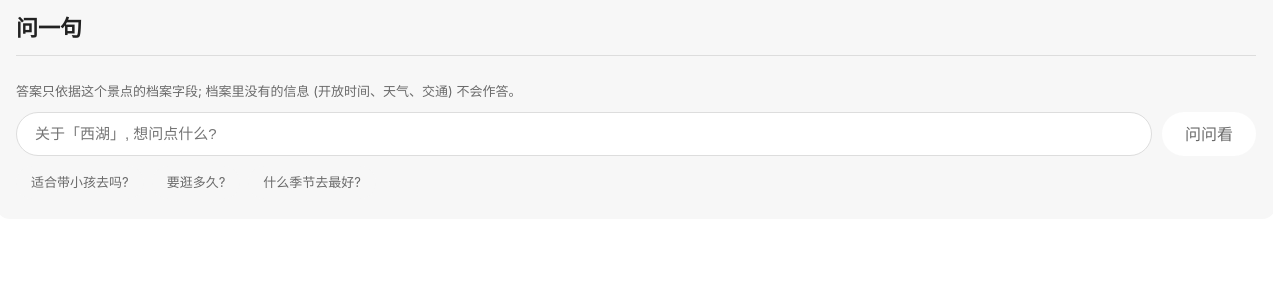
it: AiAskBox › 降级时把「这句话不是模型写的」说出来
Type "要逛多久?" into the field named "就这个景点问一句".
click(584, 134); type("要逛多久?")  # box [16,112,1152,156]
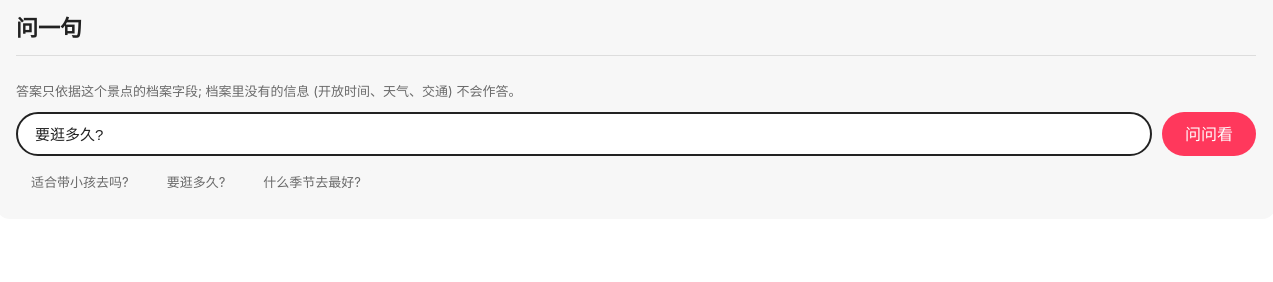
Click the button "问问看".
click(1209, 134)  # box [1162,112,1256,156]
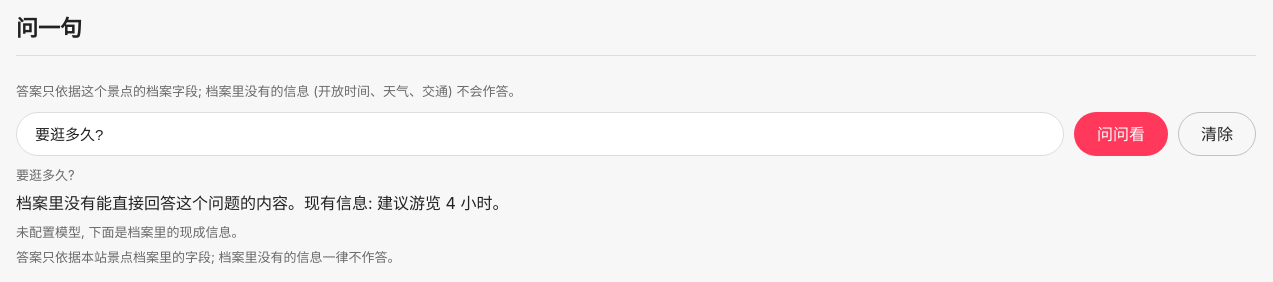
Result: the text "未配置模型, 下面是档案里的现成信息。" is shown at [16,224,244,240]
